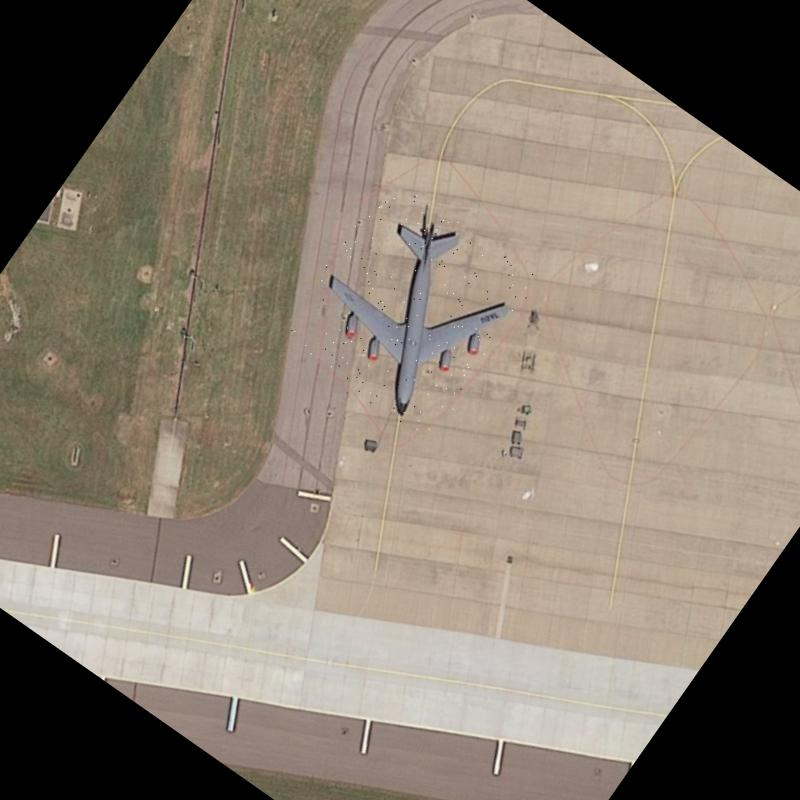A14: (275, 174, 544, 446)
